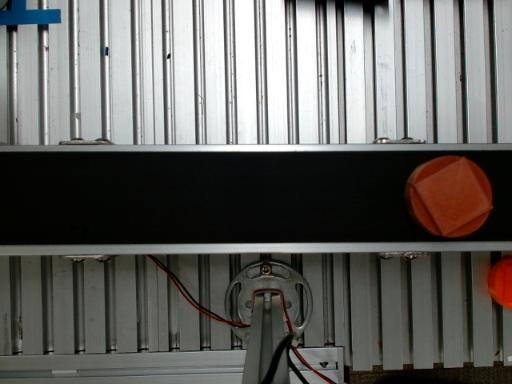Brown_Waper: (405, 155, 493, 238)
Square: (415, 157, 493, 239)
